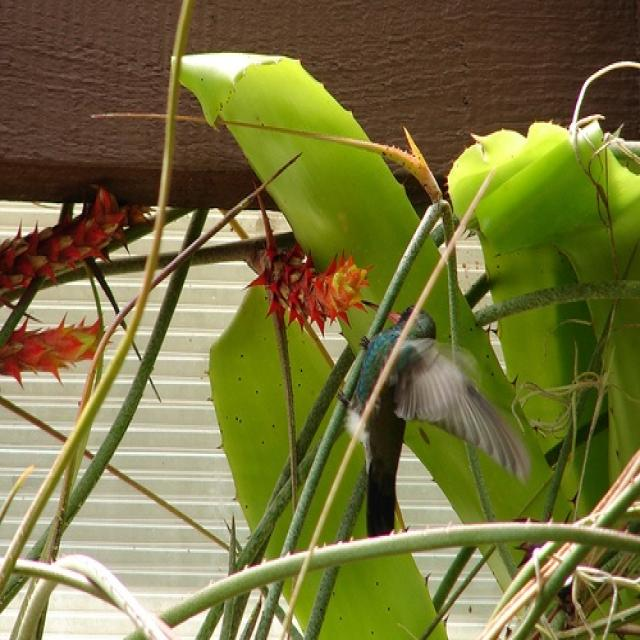bird: (334, 296, 530, 544)
